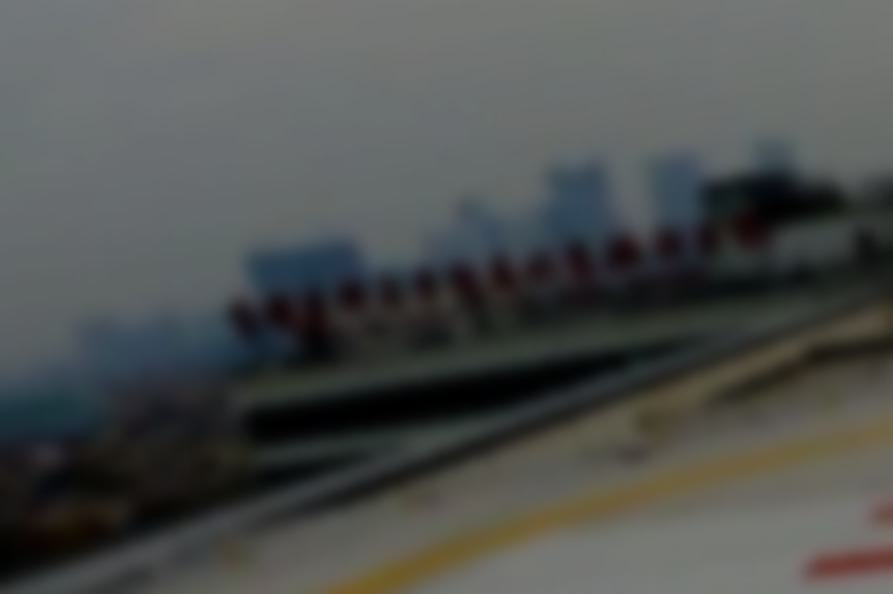Apron: (251, 405, 893, 594)
